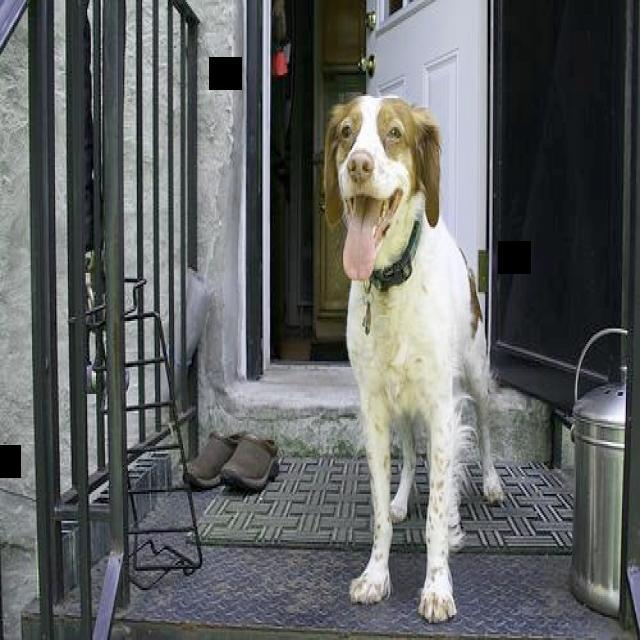adult_dog: (318, 89, 509, 624)
